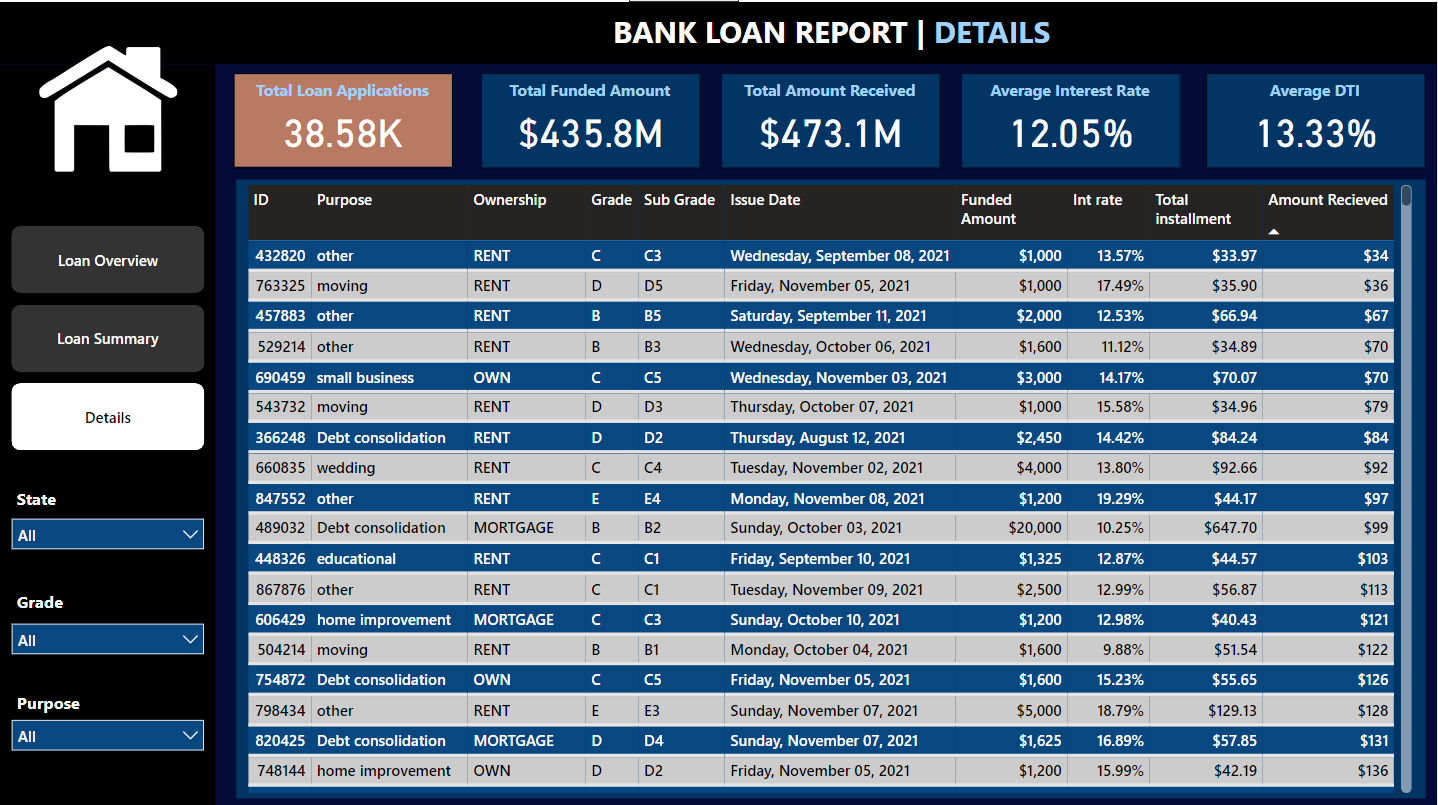

Layout of this report page (visuals, bound fields, positions):
{"tool":"powerbi","page":{"name":"Details","canvas":[1280,720],"ordinal":2},"visuals":[{"type":"shape","box":[0,0,1280.3,55],"z":0},{"type":"slicer","fields":{"Values":["Bank_loan_data.grade"]},"box":[0,543.1,191.8,41],"z":0,"group":"g8"},{"type":"slicer","fields":{"Values":["Bank_loan_data.purpose"]},"box":[0,629.5,191.8,41],"z":0,"group":"g6"},{"type":"shape","box":[0,55.5,191.8,664.7],"z":1000},{"type":"textbox","box":[9.7,519,67.6,33.8],"z":1000,"group":"g8"},{"type":"textbox","box":[9.7,609,86.9,33.8],"z":1000,"group":"g6"},{"type":"textbox","box":[540.5,3.6,452.4,51.9],"z":2000},{"type":"group","id":"g1","title":"Group 1","box":[208.5,63.9,195.4,84.5],"z":3000},{"type":"shape","box":[208.5,63.9,195.4,84.5],"z":3000,"group":"g1"},{"type":"shape","box":[428.3,63.9,195.4,84.5],"z":3000,"group":"g2"},{"type":"shape","box":[641.8,63.9,195.4,84.5],"z":3000,"group":"g3"},{"type":"shape","box":[856.6,63.9,195.4,84.5],"z":3000,"group":"g4"},{"type":"shape","box":[1073.7,63.9,195.4,84.5],"z":3000,"group":"g5"},{"type":"group","id":"g2","title":"Group 1","box":[428.3,63.9,195.4,84.5],"z":4000},{"type":"card","fields":{"Values":["Bank_loan_data.Total_Loan_Applications"]},"box":[208.5,91.6,195.4,44.6],"z":4000,"group":"g1"},{"type":"card","fields":{"Values":["Bank_loan_data.Toatal funded Amount"]},"box":[428.3,91.6,195.4,44.6],"z":4000,"group":"g2"},{"type":"card","fields":{"Values":["Bank_loan_data.Total Amount Recieved"]},"box":[641.8,91.6,195.4,44.6],"z":4000,"group":"g3"},{"type":"card","fields":{"Values":["Bank_loan_data.Average interest Rate"]},"box":[856.6,91.6,195.4,44.6],"z":4000,"group":"g4"},{"type":"card","fields":{"Values":["Bank_loan_data.Average Dti"]},"box":[1073.7,91.6,195.4,44.6],"z":4000,"group":"g5"},{"type":"textbox","box":[214.5,63.9,182.2,36.2],"z":5000,"group":"g1"},{"type":"textbox","box":[434.3,63.9,182.2,36.2],"z":5000,"group":"g2"},{"type":"group","id":"g3","title":"Group 1","box":[641.8,63.9,195.4,84.5],"z":5000},{"type":"textbox","box":[647.8,63.9,182.2,36.2],"z":5000,"group":"g3"},{"type":"textbox","box":[862.6,63.9,182.2,36.2],"z":5000,"group":"g4"},{"type":"textbox","box":[1079.7,63.9,182.2,36.2],"z":5000,"group":"g5"},{"type":"group","id":"g4","title":"Group 1","box":[856.6,63.9,195.4,84.5],"z":6000},{"type":"shape","box":[209.9,158,1059.3,551.3],"z":7000},{"type":"group","id":"g5","title":"Group 1","box":[1073.7,63.9,195.4,84.5],"z":8000},{"type":"group","id":"g6","title":"Group 2","box":[0,609,191.8,61.5],"z":9000},{"type":"group","id":"g7","title":"Group 4","box":[0,427.3,191.8,156.9],"z":10000},{"type":"tableEx","fields":{"Values":["Bank_loan_data.id","Bank_loan_data.purpose","Bank_loan_data.home_ownership","Bank_loan_data.grade","Bank_loan_data.sub_grade","Bank_loan_data.issue_date","Bank_loan_data.Toatal funded Amount","Sum(Bank_loan_data.int_rate)","Sum(Bank_loan_data.installment)","Bank_loan_data.Total Amount Recieved"]},"box":[214.7,158,1047.2,551.3],"z":11000},{"type":"pageNavigator","box":[9.7,199.1,172.5,202.7],"z":11001},{"type":"image","box":[30.2,25.3,132.7,138.7],"z":11002},{"type":"slicer","fields":{"Values":["Bank_loan_data.address_state"]},"box":[0,449,191.8,49.5],"z":22000,"group":"g7"},{"type":"textbox","box":[9.7,427.3,67.6,30.2],"z":24001,"group":"g7"},{"type":"group","id":"g8","title":"Group 3","box":[0,519,191.8,65.1],"z":24007,"group":"g7"}]}

Visuals, with their boxes in screenshot pixels (x1, y1, x2, y2), scaled from the page's 1280x720 canvas onto the 1438x805 screenshot:
shape: bbox=(0, 0, 1437, 61)
slicer - Bank_loan_data.grade: bbox=(0, 607, 215, 653)
slicer - Bank_loan_data.purpose: bbox=(0, 704, 215, 750)
shape: bbox=(0, 62, 215, 804)
textbox: bbox=(11, 580, 87, 618)
textbox: bbox=(11, 681, 109, 719)
textbox: bbox=(607, 4, 1115, 62)
"Group 1" group: bbox=(234, 71, 454, 166)
shape: bbox=(234, 71, 454, 166)
shape: bbox=(481, 71, 701, 166)
shape: bbox=(721, 71, 941, 166)
shape: bbox=(962, 71, 1182, 166)
shape: bbox=(1206, 71, 1426, 166)
"Group 1" group: bbox=(481, 71, 701, 166)
card - Bank_loan_data.Total_Loan_Applications: bbox=(234, 102, 454, 152)
card - Bank_loan_data.Toatal funded Amount: bbox=(481, 102, 701, 152)
card - Bank_loan_data.Total Amount Recieved: bbox=(721, 102, 941, 152)
card - Bank_loan_data.Average interest Rate: bbox=(962, 102, 1182, 152)
card - Bank_loan_data.Average Dti: bbox=(1206, 102, 1426, 152)
textbox: bbox=(241, 71, 446, 112)
textbox: bbox=(488, 71, 693, 112)
"Group 1" group: bbox=(721, 71, 941, 166)
textbox: bbox=(728, 71, 932, 112)
textbox: bbox=(969, 71, 1174, 112)
textbox: bbox=(1213, 71, 1418, 112)
"Group 1" group: bbox=(962, 71, 1182, 166)
shape: bbox=(236, 177, 1426, 793)
"Group 1" group: bbox=(1206, 71, 1426, 166)
"Group 2" group: bbox=(0, 681, 215, 750)
"Group 4" group: bbox=(0, 478, 215, 653)
tableEx - Bank_loan_data.id x Bank_loan_data.purpose: bbox=(241, 177, 1418, 793)
pageNavigator: bbox=(11, 223, 205, 449)
image: bbox=(34, 28, 183, 183)
slicer - Bank_loan_data.address_state: bbox=(0, 502, 215, 557)
textbox: bbox=(11, 478, 87, 512)
"Group 3" group: bbox=(0, 580, 215, 653)
